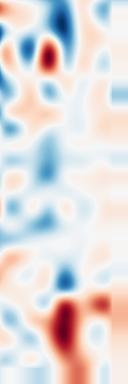filament: (43, 292, 92, 373)
